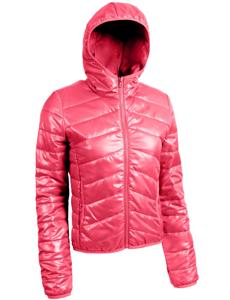C_jacket: (22, 1, 210, 300)
